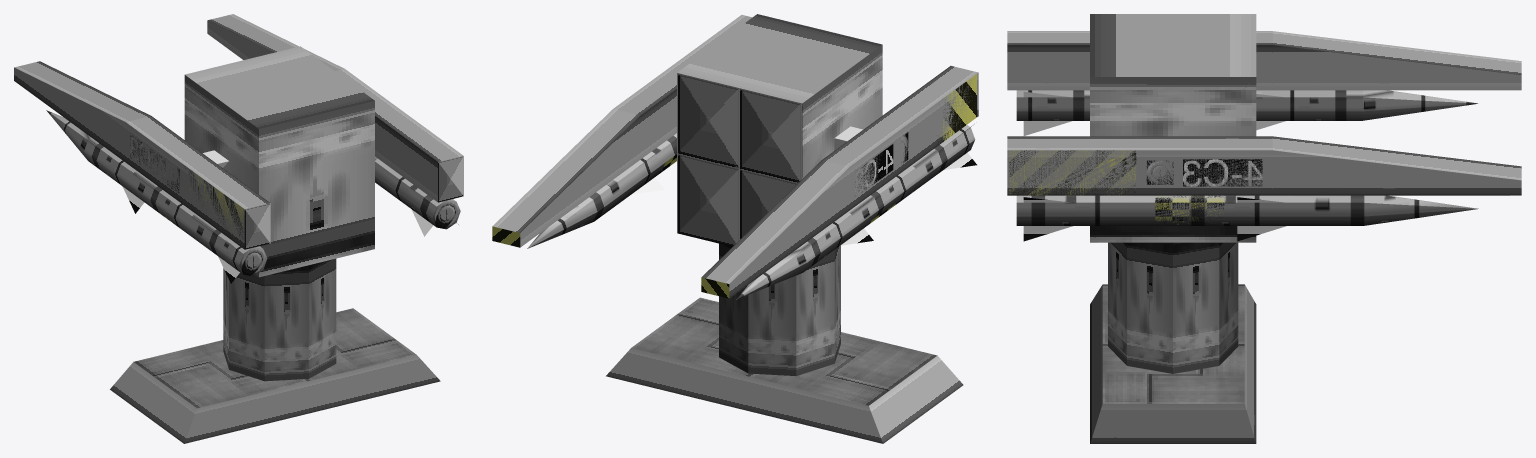
File: primary_053.glb
3 views of the same model, side by side, from view 1: azimuth 30°, elevation 25°; view 2: azimuth 150°, elevation 25°; view 3: azimuth 270°, elevation 25° (orthographic). The views are drawn at different scales.
Visible parts, largest first — view 1: Object; view 2: Object; view 3: Object.
Boxes of the visible parts, x1,y1,x2,y2 form: Object: (14,14,463,443); Object: (492,14,978,443); Object: (1007,14,1521,443).
Size of the model in its own units: 2.63 by 2.9 by 4.09.
Materials: 61 (61 with a texture image).
